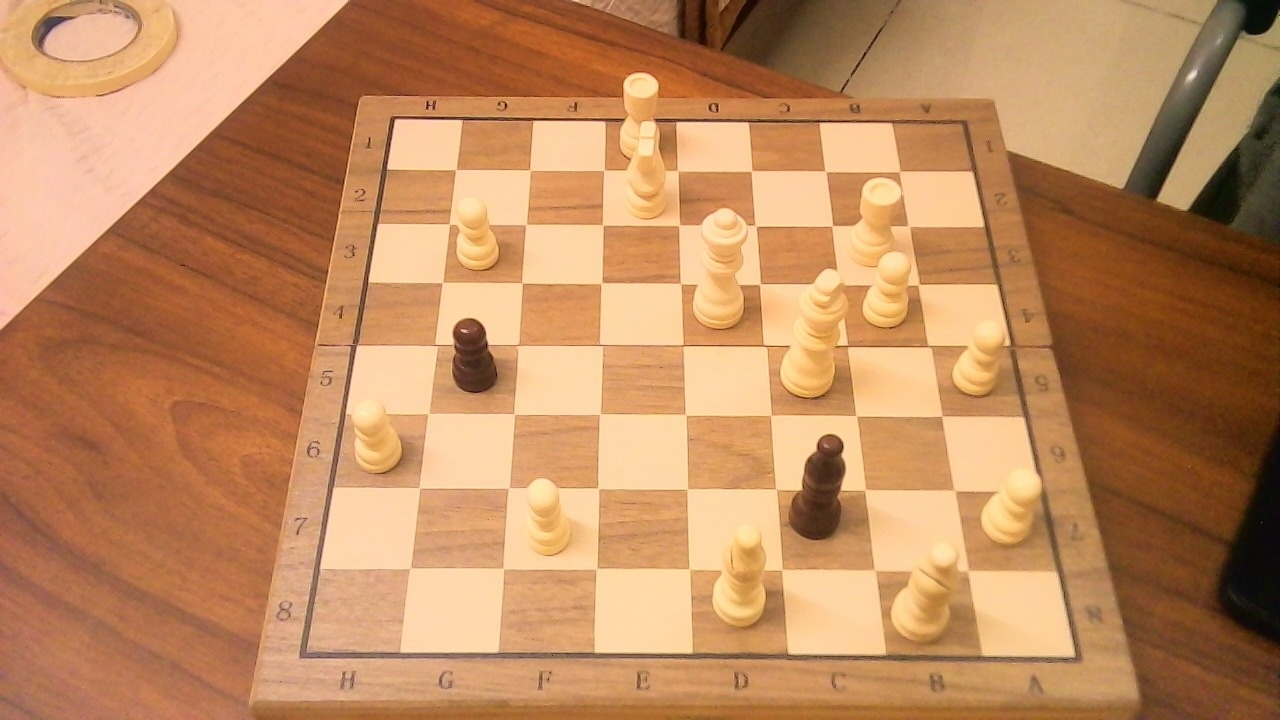B: (887, 530, 971, 644), (702, 511, 779, 632)
K: (774, 257, 856, 402)
N: (612, 110, 675, 223)
P: (974, 459, 1051, 549), (946, 310, 1014, 399), (513, 468, 578, 560), (856, 242, 921, 332), (343, 389, 410, 476), (448, 187, 506, 274)
Q: (688, 198, 760, 333)
R: (843, 166, 911, 272), (611, 62, 667, 163)
b: (786, 420, 863, 543)
p: (442, 307, 508, 396)
